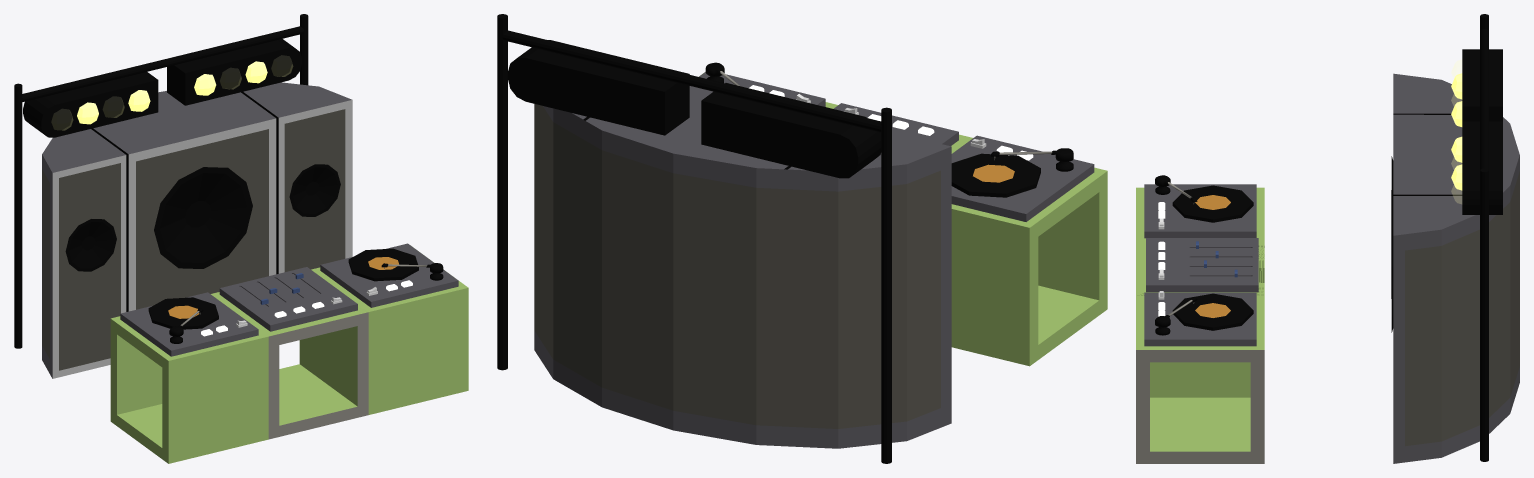
The picture shows the model from 3 angles, left to right: view 1: azimuth 30°, elevation 25°; view 2: azimuth 150°, elevation 25°; view 3: azimuth 270°, elevation 25°; orthographic projection. The views are drawn at different scales.
Parts seen in each view (by area): view 1: DJ_01; view 2: DJ_01; view 3: DJ_01.
Boxes of the visible parts, bbox=[...] form: DJ_01: bbox=[14, 14, 468, 463]; DJ_01: bbox=[497, 14, 1107, 463]; DJ_01: bbox=[1136, 14, 1519, 463].
Size of the model in its own units: 300 by 250 by 300.
